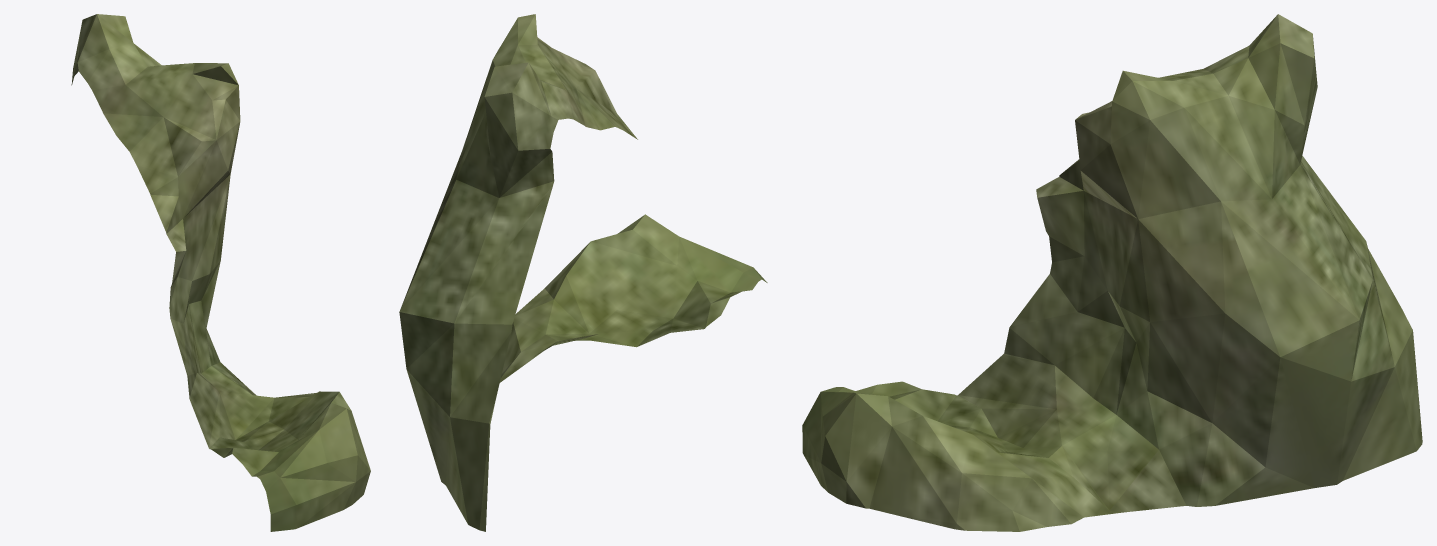
3 views of the same model, side by side, from view 1: azimuth 30°, elevation 25°; view 2: azimuth 150°, elevation 25°; view 3: azimuth 270°, elevation 25° (orthographic). The views are drawn at different scales.
Size of the model in its own units: 1.03 by 2.31 by 2.96.
1 material, 1 textured.
